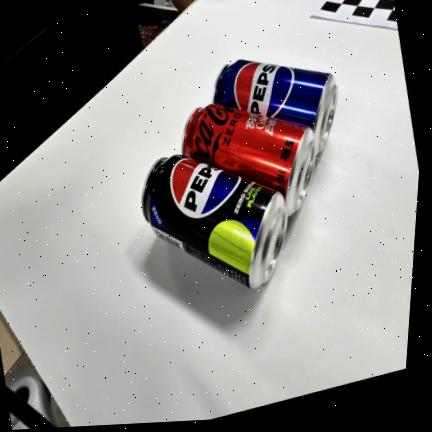can_coke_zero: (182, 104, 317, 216)
can_pepsi: (213, 60, 338, 152)
can_pepsi_zero: (142, 154, 287, 288)
